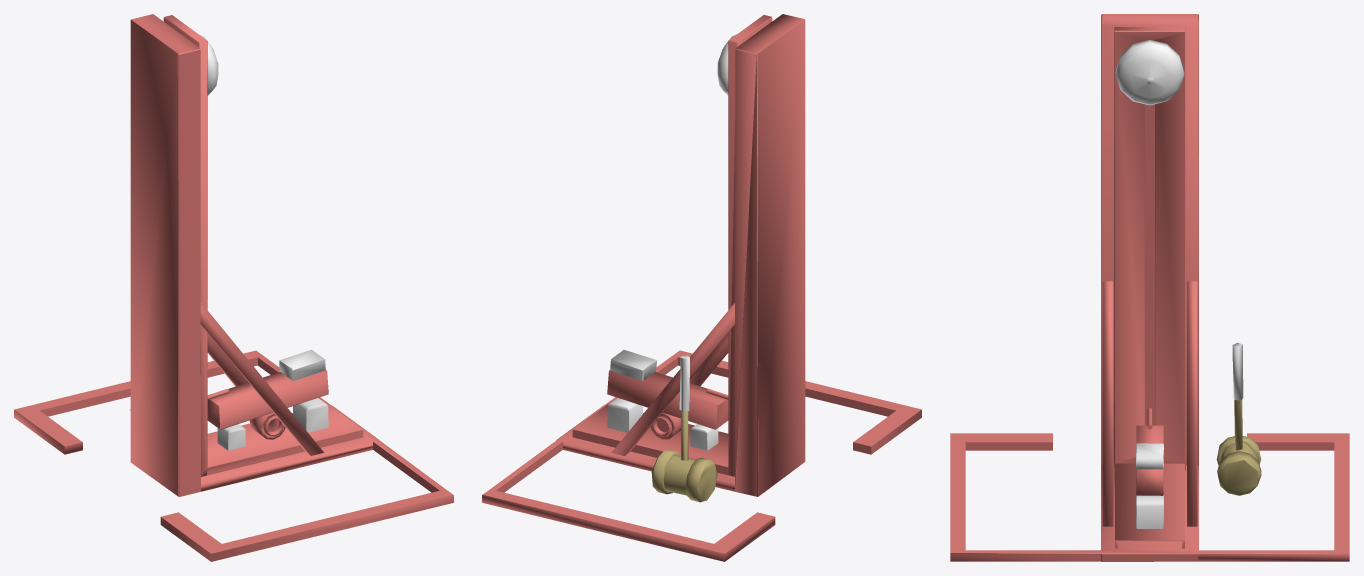
Rendered from Striker_Decimated.fbx.
3 views of the same model, side by side, from view 1: azimuth 30°, elevation 25°; view 2: azimuth 150°, elevation 25°; view 3: azimuth 270°, elevation 25° (orthographic).
Visible parts, largest first — view 1: Striker, Level, weight; view 2: Striker, Hammer, Level, weight; view 3: Striker, Bell, Hammer, Level, weight.
Boxes of the visible parts, x1,y1,x2,y2 form: Striker: [14, 14, 453, 561]; Level: [207, 370, 328, 429]; weight: [279, 349, 325, 380]; Striker: [482, 14, 921, 561]; Hammer: [651, 355, 717, 502]; Level: [607, 370, 728, 429]; weight: [610, 350, 656, 380]; Striker: [950, 14, 1349, 561]; Bell: [1115, 40, 1184, 105]; Hammer: [1216, 343, 1261, 495]; Level: [1136, 425, 1163, 495]; weight: [1136, 443, 1163, 469].
Bounding box in the file's own units: 360 × 626 × 505.
